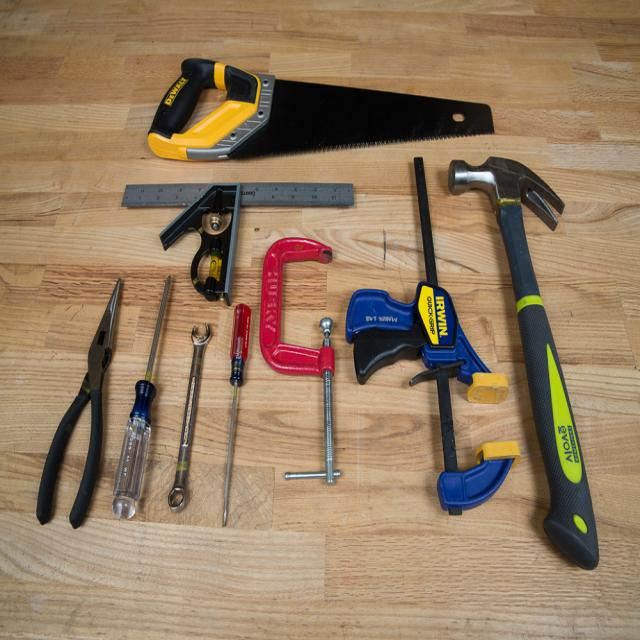Screwdriver: (112, 275, 171, 519), (222, 304, 251, 526)
